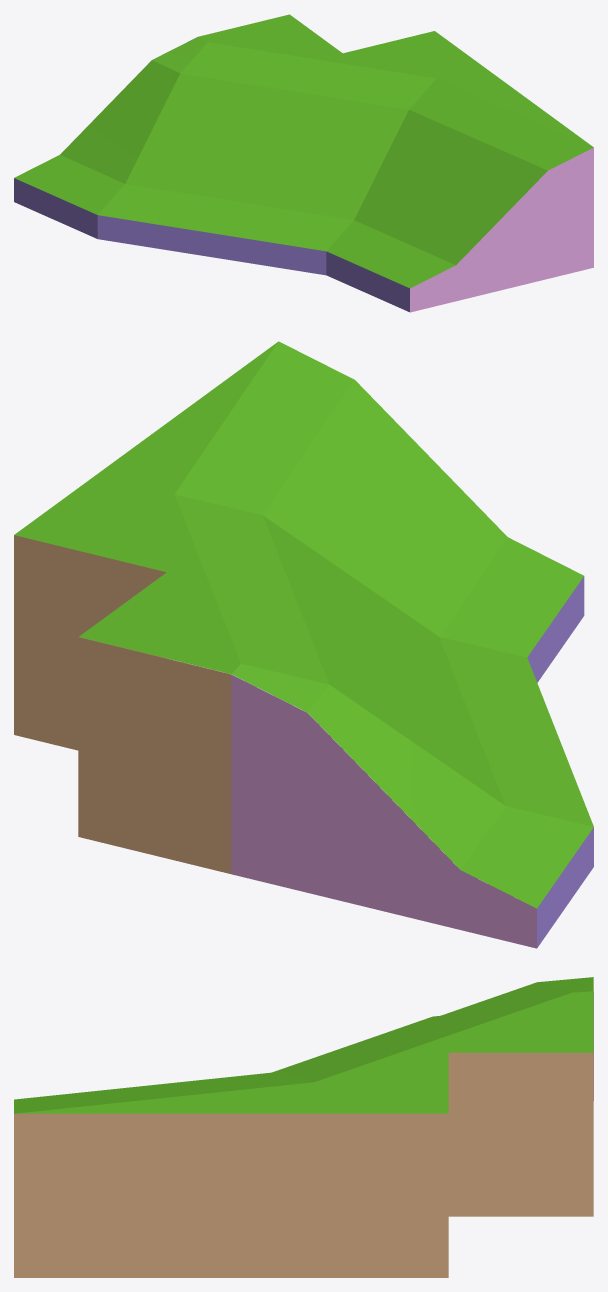
Rendered from Grass_Hill_Sharp_Esse_4x4.glb.
The picture shows the model from 3 angles, top to bottom: view 1: azimuth 30°, elevation 25°; view 2: azimuth 150°, elevation 25°; view 3: azimuth 270°, elevation 25°; orthographic projection. The views are drawn at different scales.
Parts seen in each view (by area): view 1: Grass_Hill_Sharp_Esse_4x4; view 2: Grass_Hill_Sharp_Esse_4x4; view 3: Grass_Hill_Sharp_Esse_4x4.
Boxes of the visible parts, x1,y1,x2,y2 form: Grass_Hill_Sharp_Esse_4x4: [14, 14, 593, 312]; Grass_Hill_Sharp_Esse_4x4: [14, 341, 593, 948]; Grass_Hill_Sharp_Esse_4x4: [14, 977, 593, 1277].
Size of the model in its own units: 400 by 125 by 400.
